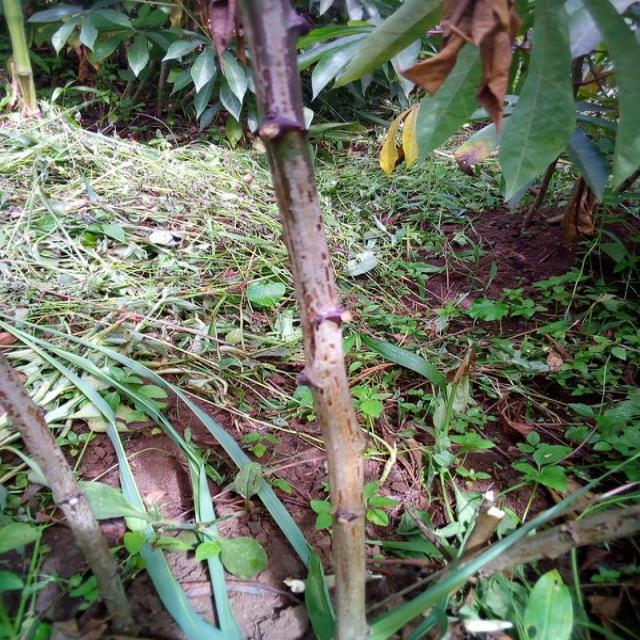cassava leaf: (497, 0, 577, 208)
